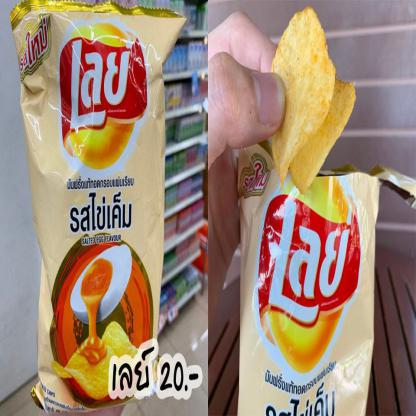potatochip: (6, 0, 189, 415), (233, 114, 385, 415)
